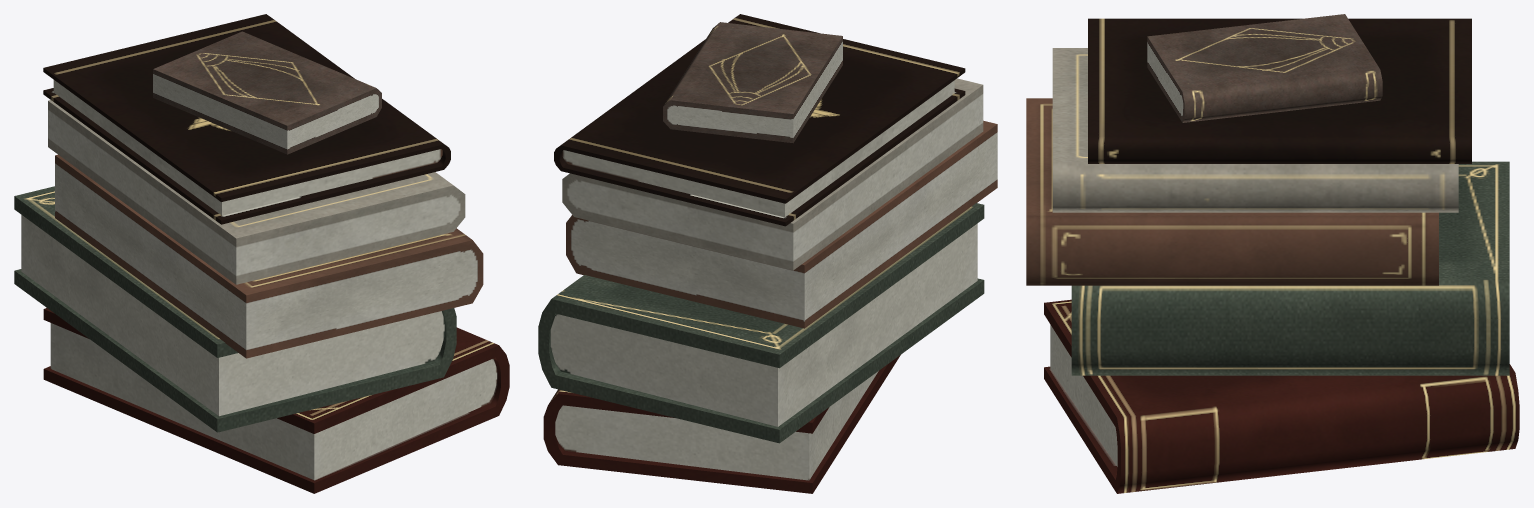
The model's file is BooksGroup01.fbx.
3 views of the same model, side by side, from view 1: azimuth 30°, elevation 25°; view 2: azimuth 150°, elevation 25°; view 3: azimuth 270°, elevation 25° (orthographic). The views are drawn at different scales.
Visible parts, largest first — view 1: prop_books_05_inst_001; view 2: prop_books_05_inst_001; view 3: prop_books_05_inst_001.
Boxes of the visible parts, box(x1,y1,x2,y2) form: prop_books_05_inst_001: box(14, 14, 509, 493); prop_books_05_inst_001: box(538, 14, 997, 493); prop_books_05_inst_001: box(1026, 14, 1519, 493).
Bounding box in the file's own units: 40 × 39.56 × 50.01.
Materials: 1 (1 with a texture image).
